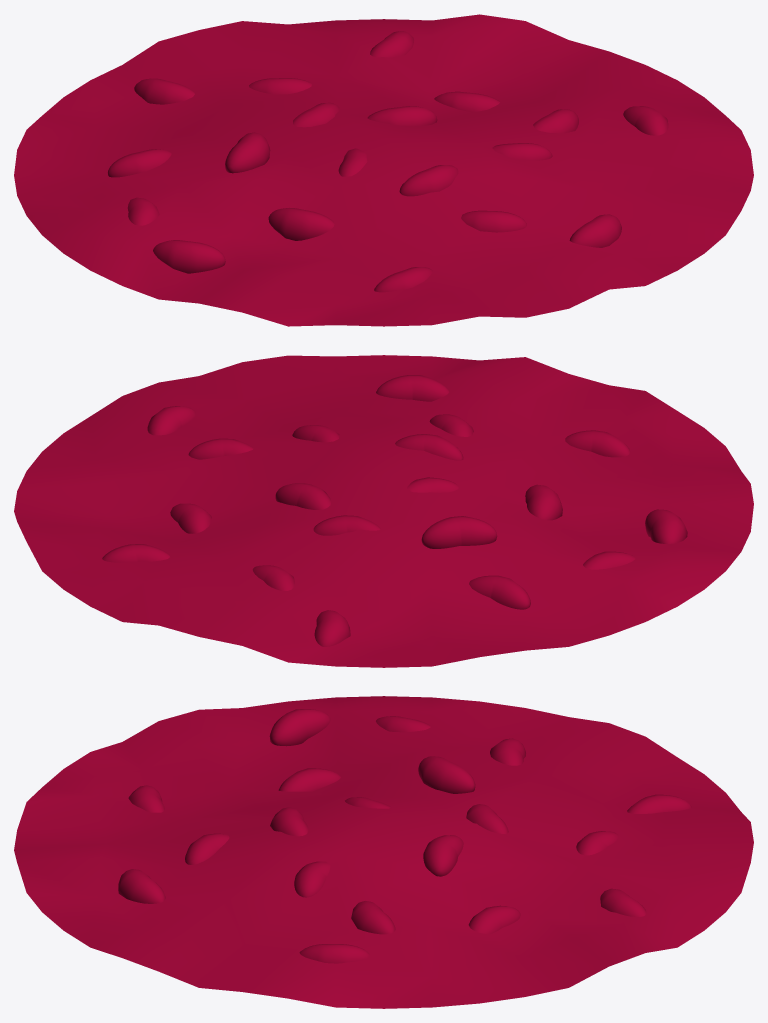
File: mesh_beans_pot.fbx
3 views of the same model, one above another, from view 1: azimuth 30°, elevation 25°; view 2: azimuth 150°, elevation 25°; view 3: azimuth 270°, elevation 25° (orthographic).
Visible parts, largest first — view 1: mesh_beans_pot, mesh_Bean_02, mesh_Bean_05, mesh_Bean_06, mesh_Bean_12, mesh_Bean_04, mesh_Bean_15, mesh_Bean_03, mesh_Bean_07, mesh_Bean_13, mesh_Bean_20, mesh_Bean_23 (+8 smaller); view 2: mesh_beans_pot, mesh_Bean_06, mesh_Bean_12, mesh_Bean_07, mesh_Bean_09, mesh_Bean_02, mesh_Bean_13, mesh_Bean_04, mesh_Bean_05, mesh_Bean_15, mesh_Bean_20, mesh_Bean_18 (+8 smaller); view 3: mesh_beans_pot, mesh_Bean_02, mesh_Bean_06, mesh_Bean_13, mesh_Bean_12, mesh_Bean_20, mesh_Bean_10, mesh_Bean_05, mesh_Bean_23, mesh_Bean_11, mesh_Bean_15, mesh_Bean_18 (+7 smaller).
Boxes of the visible parts, left/top/right/bottom form: mesh_beans_pot: left=14, top=14, right=753, bottom=326; mesh_Bean_02: left=153, top=240, right=225, bottom=273; mesh_Bean_05: left=268, top=208, right=334, bottom=240; mesh_Bean_06: left=225, top=132, right=270, bottom=173; mesh_Bean_12: left=569, top=214, right=621, bottom=247; mesh_Bean_04: left=399, top=165, right=458, bottom=196; mesh_Bean_15: left=134, top=78, right=194, bottom=104; mesh_Bean_03: left=461, top=210, right=526, bottom=232; mesh_Bean_07: left=107, top=149, right=171, bottom=177; mesh_Bean_13: left=367, top=106, right=437, bottom=126; mesh_Bean_20: left=623, top=106, right=668, bottom=135; mesh_Bean_23: left=434, top=91, right=499, bottom=112; mesh_beans_pot: left=14, top=355, right=753, bottom=667; mesh_Bean_06: left=421, top=516, right=497, bottom=548; mesh_Bean_12: left=376, top=375, right=449, bottom=401; mesh_Bean_07: left=469, top=575, right=530, bottom=609; mesh_Bean_09: left=565, top=430, right=630, bottom=457; mesh_Bean_02: left=645, top=509, right=687, bottom=543; mesh_Bean_13: left=275, top=483, right=330, bottom=509; mesh_Bean_04: left=395, top=434, right=463, bottom=460; mesh_Bean_05: left=525, top=484, right=562, bottom=520; mesh_Bean_15: left=314, top=610, right=350, bottom=646; mesh_Bean_20: left=147, top=406, right=195, bottom=435; mesh_Bean_18: left=102, top=544, right=169, bottom=562; mesh_beans_pot: left=14, top=696, right=753, bottom=1008; mesh_Bean_02: left=269, top=709, right=330, bottom=746; mesh_Bean_06: left=418, top=756, right=475, bottom=793; mesh_Bean_13: left=423, top=835, right=463, bottom=876; mesh_Bean_12: left=118, top=869, right=165, bottom=903; mesh_Bean_20: left=299, top=944, right=369, bottom=963; mesh_Bean_10: left=351, top=901, right=395, bottom=934; mesh_Bean_05: left=278, top=768, right=340, bottom=791; mesh_Bean_23: left=468, top=905, right=520, bottom=934; mesh_Bean_11: left=294, top=861, right=330, bottom=897; mesh_Bean_15: left=627, top=794, right=691, bottom=813; mesh_Bean_18: left=600, top=888, right=646, bottom=916.
Size of the model in its own units: 0.288 by 0.0281 by 0.288.
